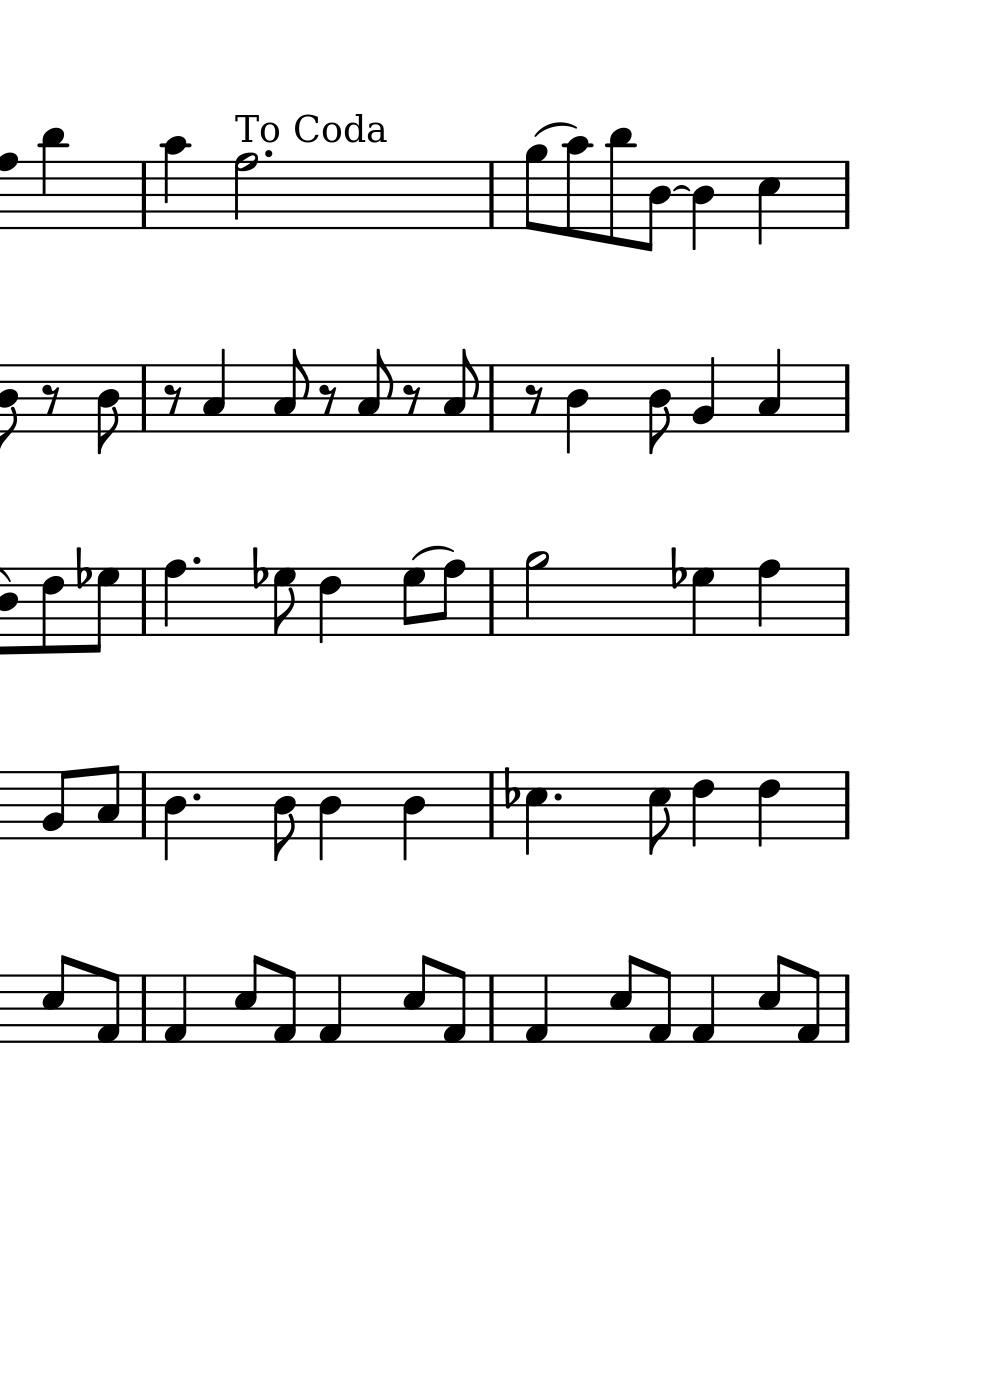2_8: (232, 151, 260, 232)
2_9: (524, 550, 551, 638)
4_1: (522, 973, 550, 1045), (162, 973, 189, 1045), (317, 973, 344, 1045), (690, 973, 717, 1045)
4_10: (160, 135, 191, 232)
4_11: (39, 124, 67, 234)
4_2: (692, 355, 717, 434)
4_3: (201, 347, 229, 434), (756, 349, 782, 436)
4_4: (564, 363, 590, 456), (401, 770, 427, 863), (690, 159, 716, 253), (162, 770, 187, 862), (318, 770, 343, 863)
4_5: (756, 159, 782, 247), (524, 769, 549, 859)
4_6: (756, 771, 781, 849), (690, 771, 715, 848), (318, 568, 342, 646)
4_7: (690, 567, 716, 638)
4_8: (162, 559, 187, 639), (756, 559, 781, 639)
8_1: (441, 966, 468, 1045), (795, 966, 822, 1045), (272, 965, 298, 1045), (647, 965, 673, 1045), (95, 968, 121, 1045)
8_10: (564, 136, 592, 242)
8_11: (607, 125, 636, 249)
8_2: (42, 769, 73, 841)
8_3: (355, 347, 394, 434), (441, 347, 481, 434), (271, 347, 310, 434), (95, 764, 121, 841)
8_4: (641, 159, 671, 254), (646, 361, 673, 457), (271, 770, 297, 864), (95, 363, 121, 456)
8_5: (41, 952, 72, 1045), (232, 953, 262, 1045), (607, 953, 637, 1045), (756, 953, 786, 1045), (402, 953, 432, 1044), (647, 770, 672, 857)
8_6: (39, 566, 65, 656)
8_7: (86, 567, 120, 654), (401, 567, 426, 638), (272, 567, 297, 637)
8_8: (435, 558, 465, 638)
8_9: (523, 144, 550, 234)
Flat: (73, 544, 92, 590), (249, 545, 268, 590), (667, 544, 686, 590), (502, 765, 520, 810)
Rests8: (522, 382, 545, 418), (162, 382, 184, 417), (40, 382, 61, 416), (317, 382, 339, 416), (402, 382, 423, 415)
Single_barline: (480, 975, 501, 1041), (837, 974, 857, 1042), (135, 162, 155, 229), (133, 975, 153, 1042), (837, 161, 856, 229), (482, 163, 501, 229), (837, 365, 856, 432), (838, 568, 856, 636), (838, 771, 856, 839), (482, 366, 500, 431), (482, 773, 500, 838), (483, 569, 500, 635), (135, 366, 152, 430), (136, 568, 152, 634), (136, 772, 152, 838)
Slur: (532, 120, 577, 139), (412, 544, 453, 562)
ToCoda: (235, 110, 386, 145)
dot: (261, 147, 275, 161), (189, 791, 202, 804), (189, 554, 202, 567), (551, 791, 564, 804)
